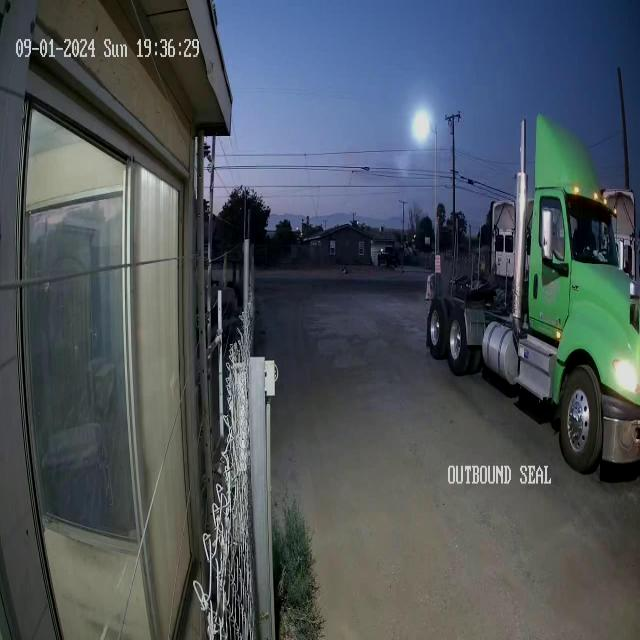BOBTAIL: (425, 111, 639, 474)
